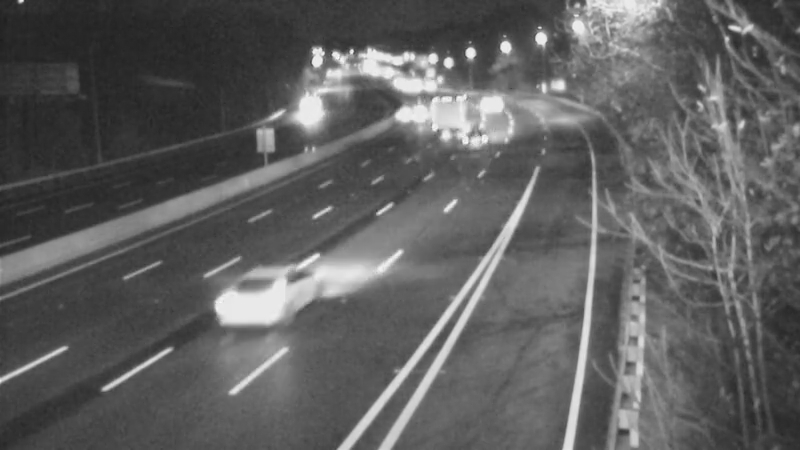vehicle: (194, 250, 304, 360), (471, 80, 521, 130), (374, 93, 424, 143), (428, 81, 478, 131), (444, 117, 494, 167), (285, 87, 335, 137)
